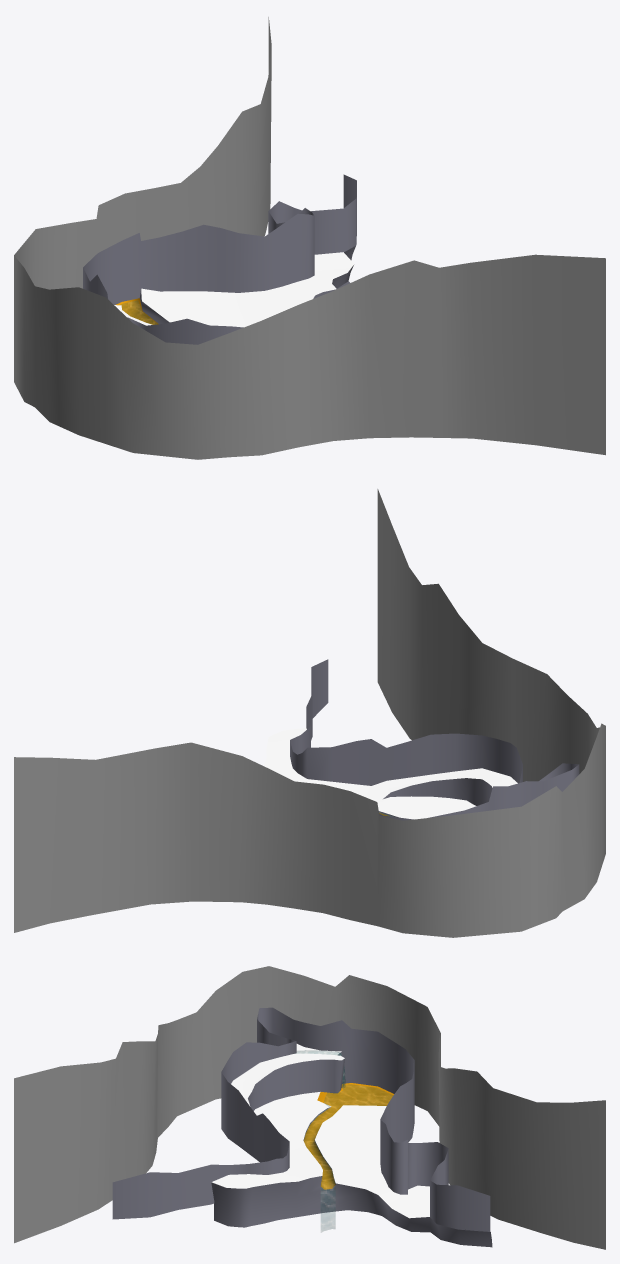
Rendered from hitherton_terrain.glb.
3 renders of one model, top to bottom at view 1: azimuth 30°, elevation 25°; view 2: azimuth 150°, elevation 25°; view 3: azimuth 270°, elevation 25°, orthographic. The views are drawn at different scales.
Parts seen in each view (by area): view 1: level curtain far viz, level curtain wall, level walkable area; view 2: level curtain far viz, level curtain wall, level walkable area; view 3: level curtain far viz, level walkable area, level curtain wall, lake_and_river.
Boxes of the visible parts, <box> form: level curtain far viz: <box>14,17,605,459</box>; level curtain wall: <box>83,174,356,344</box>; level walkable area: <box>114,246,355,327</box>; level curtain far viz: <box>14,489,605,937</box>; level curtain wall: <box>290,659,579,820</box>; level walkable area: <box>264,728,517,819</box>; level curtain far viz: <box>14,966,605,1249</box>; level walkable area: <box>211,1044,492,1247</box>; level curtain wall: <box>112,1007,490,1231</box>; lake_and_river: <box>304,1084,392,1232</box>.
Bounding box in the file's own units: 246 × 124 × 371.
Materials: 5 (1 with a texture image).
